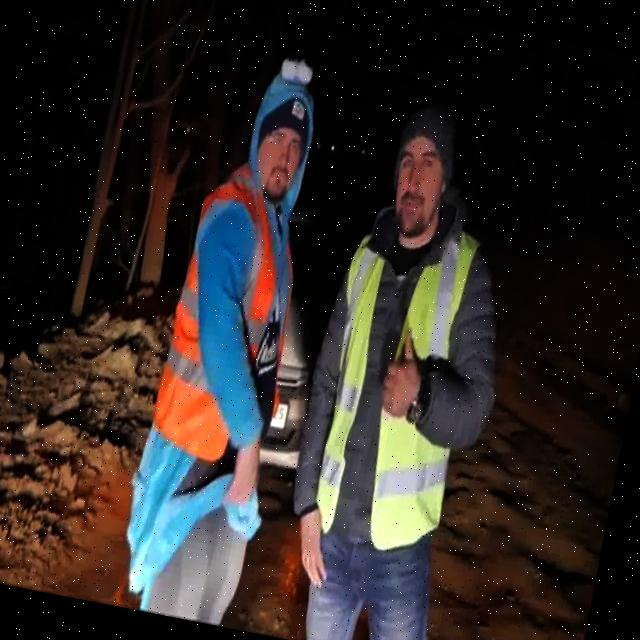vest: (296, 212, 492, 564), (145, 156, 323, 478)
